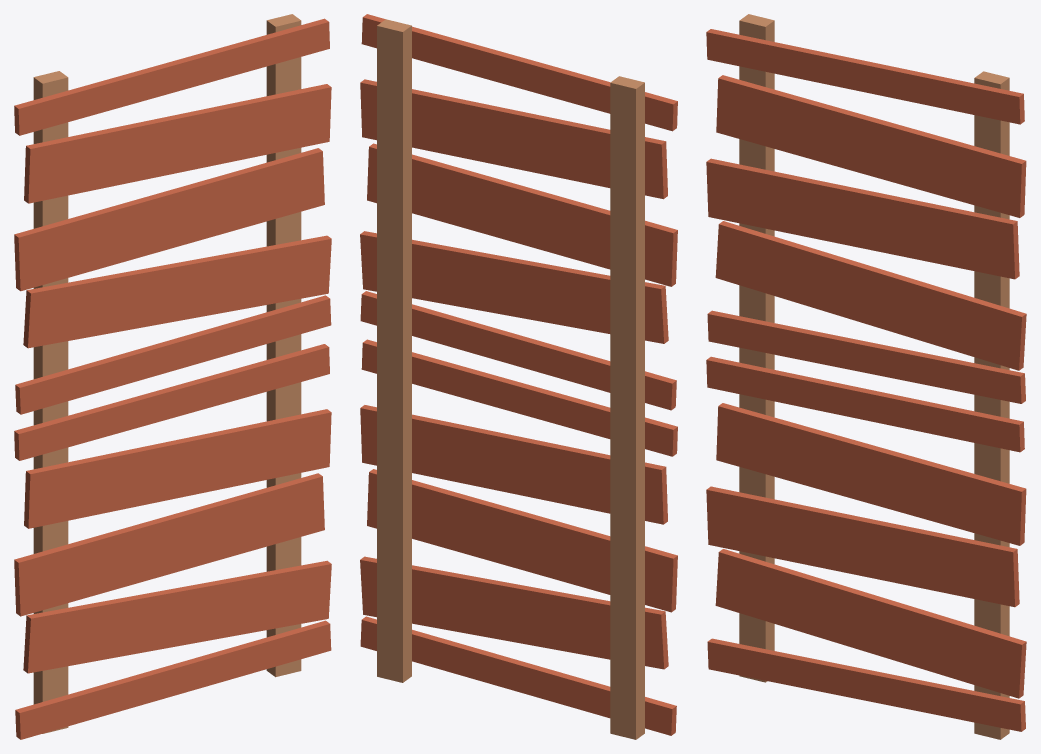
The model's file is Barricade test.fbx.
The picture shows the model from 3 angles, left to right: view 1: azimuth 30°, elevation 25°; view 2: azimuth 150°, elevation 25°; view 3: azimuth 330°, elevation 25°; orthographic projection.
Parts seen in each view (by area): view 1: mergedBlocks; view 2: mergedBlocks; view 3: mergedBlocks.
Boxes of the visible parts, x1,y1,x2,y2 form: mergedBlocks: (14, 14, 331, 739); mergedBlocks: (360, 14, 677, 739); mergedBlocks: (706, 14, 1026, 739).
Size of the model in its own units: 10.08 by 20 by 0.75.
